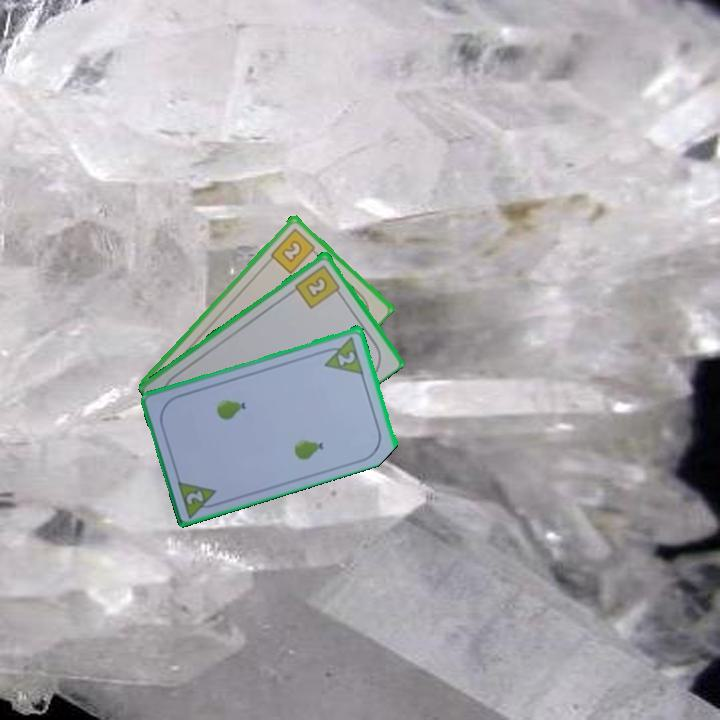2b: (267, 224, 322, 276), (291, 261, 345, 311)
2p: (174, 476, 224, 519), (334, 347, 358, 368)
